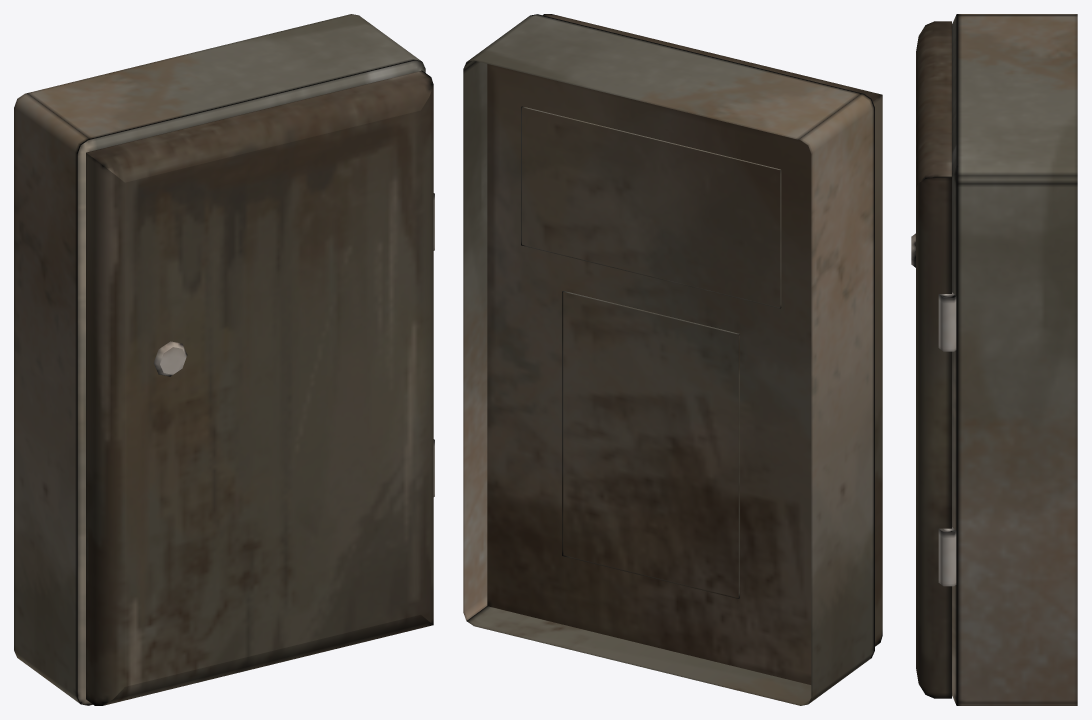
The model's file is FuseBox_Asset.fbx.
3 renders of one model, left to right at view 1: azimuth 30°, elevation 25°; view 2: azimuth 150°, elevation 25°; view 3: azimuth 270°, elevation 25°, orthographic. The views are drawn at different scales.
Visible parts, largest first — view 1: FuseBoxDoor, FuseBox; view 2: FuseBox, FuseBoxDoor; view 3: FuseBox, FuseBoxDoor.
Boxes of the visible parts, x1=… form: FuseBoxDoor: x1=86, y1=70, x2=433, y2=705; FuseBox: x1=14, y1=14, x2=434, y2=705; FuseBox: x1=463, y1=14, x2=874, y2=705; FuseBoxDoor: x1=543, y1=14, x2=882, y2=646; FuseBox: x1=938, y1=14, x2=1077, y2=705; FuseBoxDoor: x1=911, y1=21, x2=951, y2=698.
Bounding box in the file's own units: 37.22 × 16.08 × 57.41.
1 material, 1 textured.
